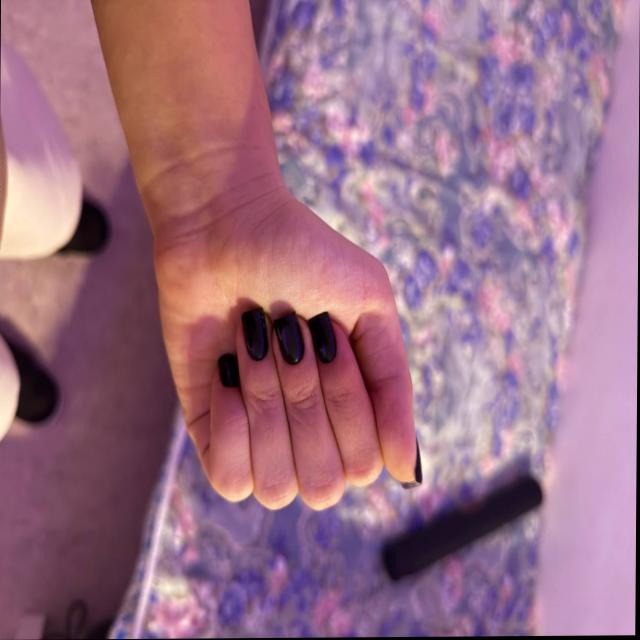a: (184, 237, 464, 517)
